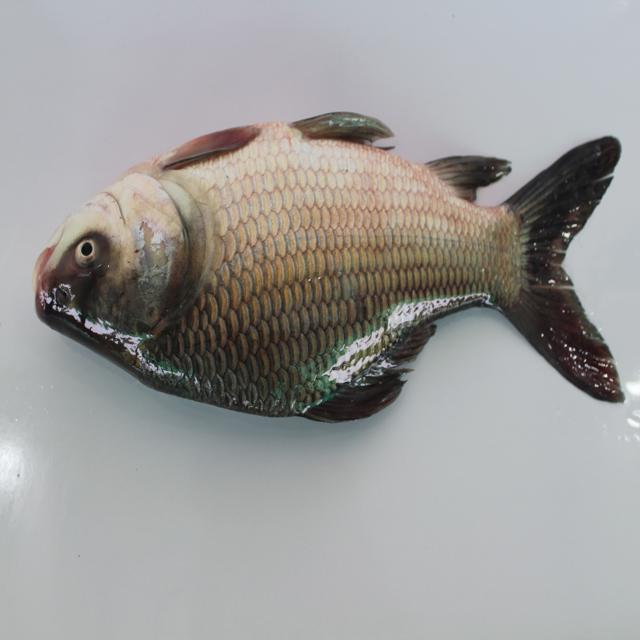Catla: (28, 89, 639, 428)
